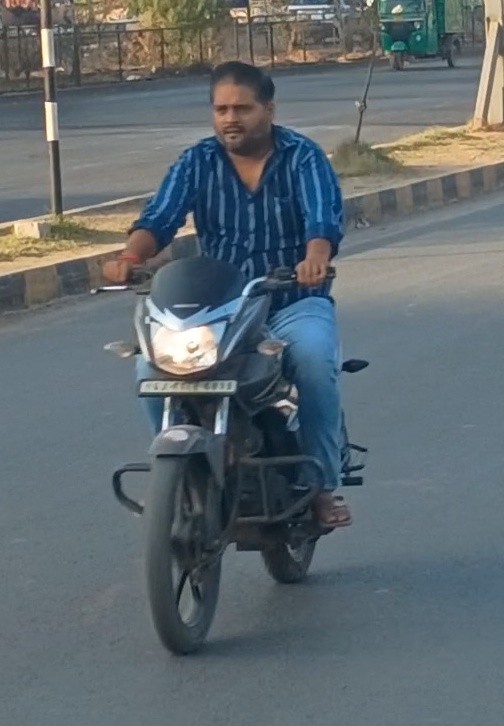BikeWithRider: (79, 53, 379, 660)
NoHelmet: (190, 54, 295, 158)
